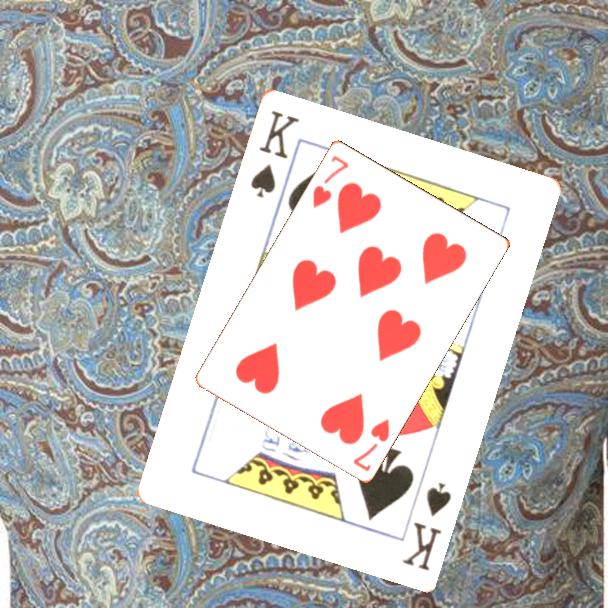h07: (309, 151, 352, 211), (349, 415, 392, 474)
s13: (246, 106, 302, 201), (398, 478, 454, 573)
